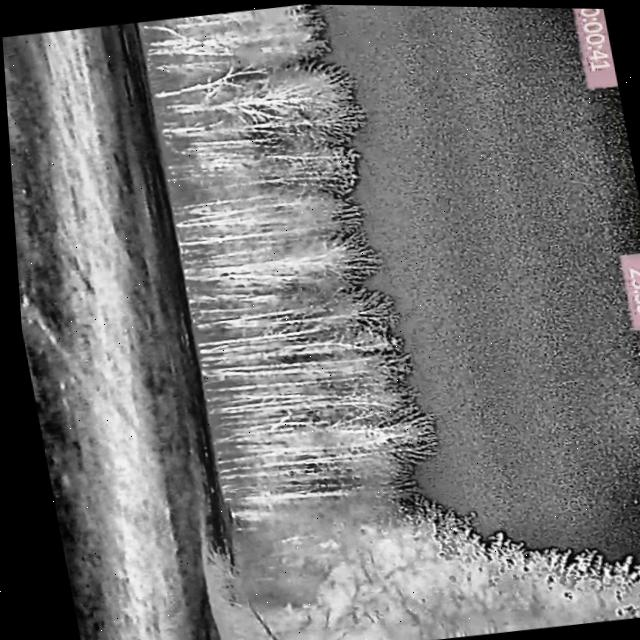drone: (383, 335, 396, 344)
